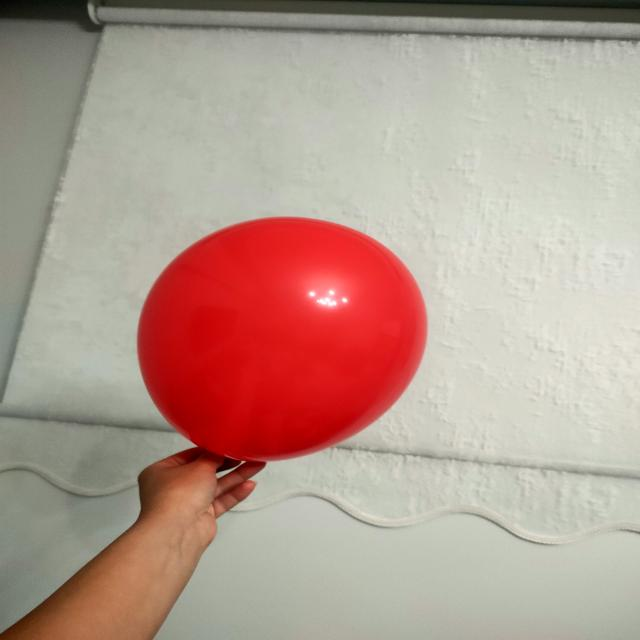red: (139, 218, 430, 466)
